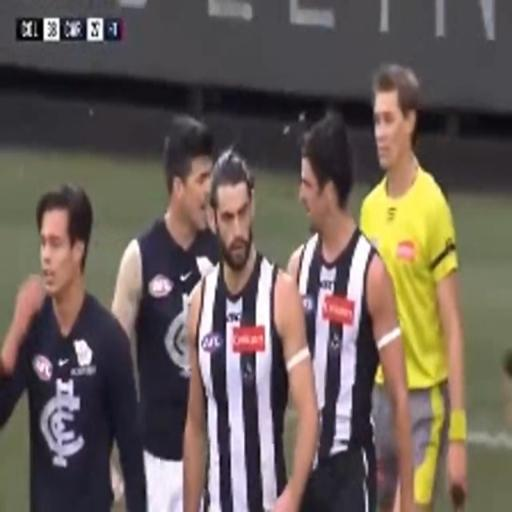nao-violencia: (107, 75, 412, 416)
